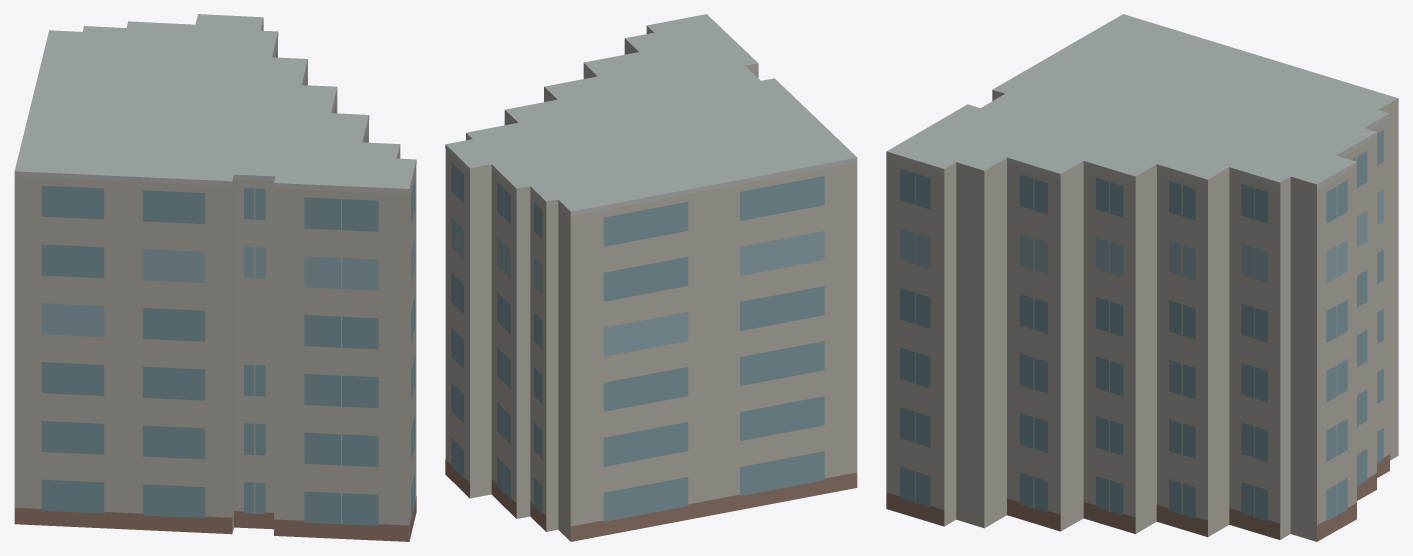
File: survey-upis-33037060.glb
The picture shows the model from 3 angles, left to right: view 1: azimuth 30°, elevation 25°; view 2: azimuth 150°, elevation 25°; view 3: azimuth 270°, elevation 25°; orthographic projection. The views are drawn at different scales.
Visible parts, largest first — view 1: survey-upis-33037060.tmp; view 2: survey-upis-33037060.tmp; view 3: survey-upis-33037060.tmp.
Boxes of the visible parts, bbox=[...] form: survey-upis-33037060.tmp: bbox=[14, 14, 416, 541]; survey-upis-33037060.tmp: bbox=[445, 14, 857, 541]; survey-upis-33037060.tmp: bbox=[886, 14, 1398, 541].
Size of the model in its own units: 17.69 by 17.3 by 22.47.
